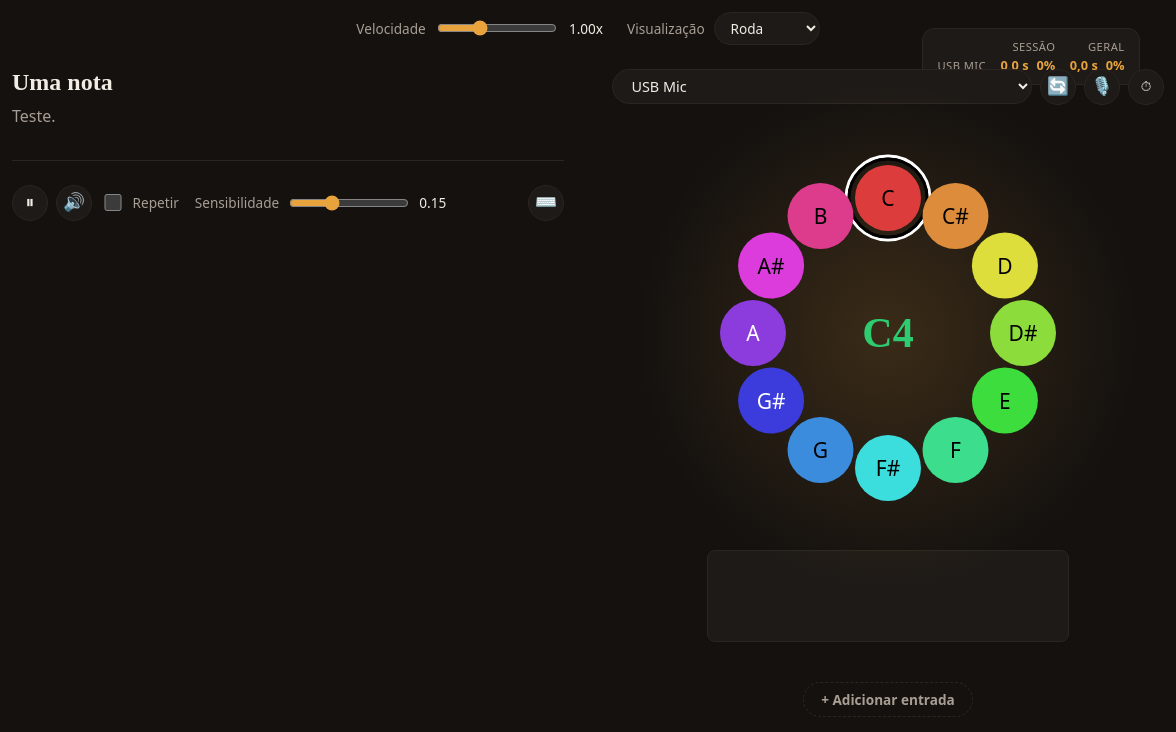
Test: ExercisePlayer input lanes › adds a lane on the next free device and remembers it
What coordinates should you click on to do the following:
click the button "+ Adicionar entrada"
I would click on:
 (888, 699)
Its box is [803, 682, 973, 717].
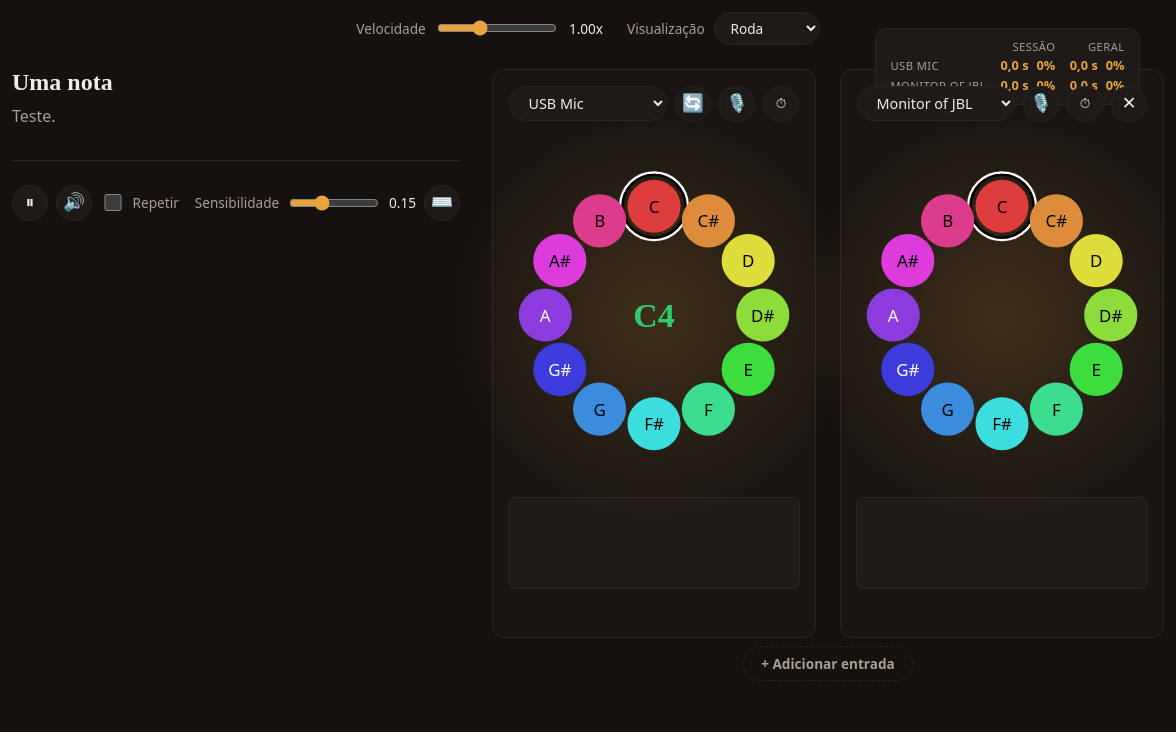
Now the dropdown named "Entrada 2" shows "Monitor of JBL", box [857, 86, 1015, 122]
